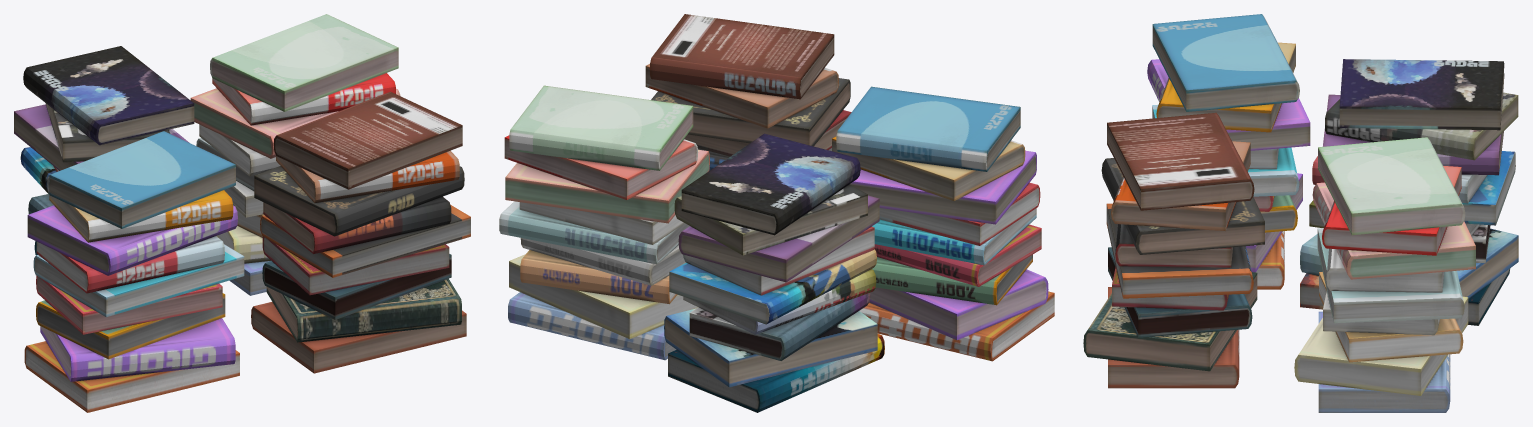
The model's file is Explore_School_75.obj.
3 views of the same model, side by side, from view 1: azimuth 30°, elevation 25°; view 2: azimuth 150°, elevation 25°; view 3: azimuth 270°, elevation 25° (orthographic). The views are drawn at different scales.
Bounding box in the file's own units: 1.55 × 0.7257 × 1.36.
4 materials, 4 textured.
